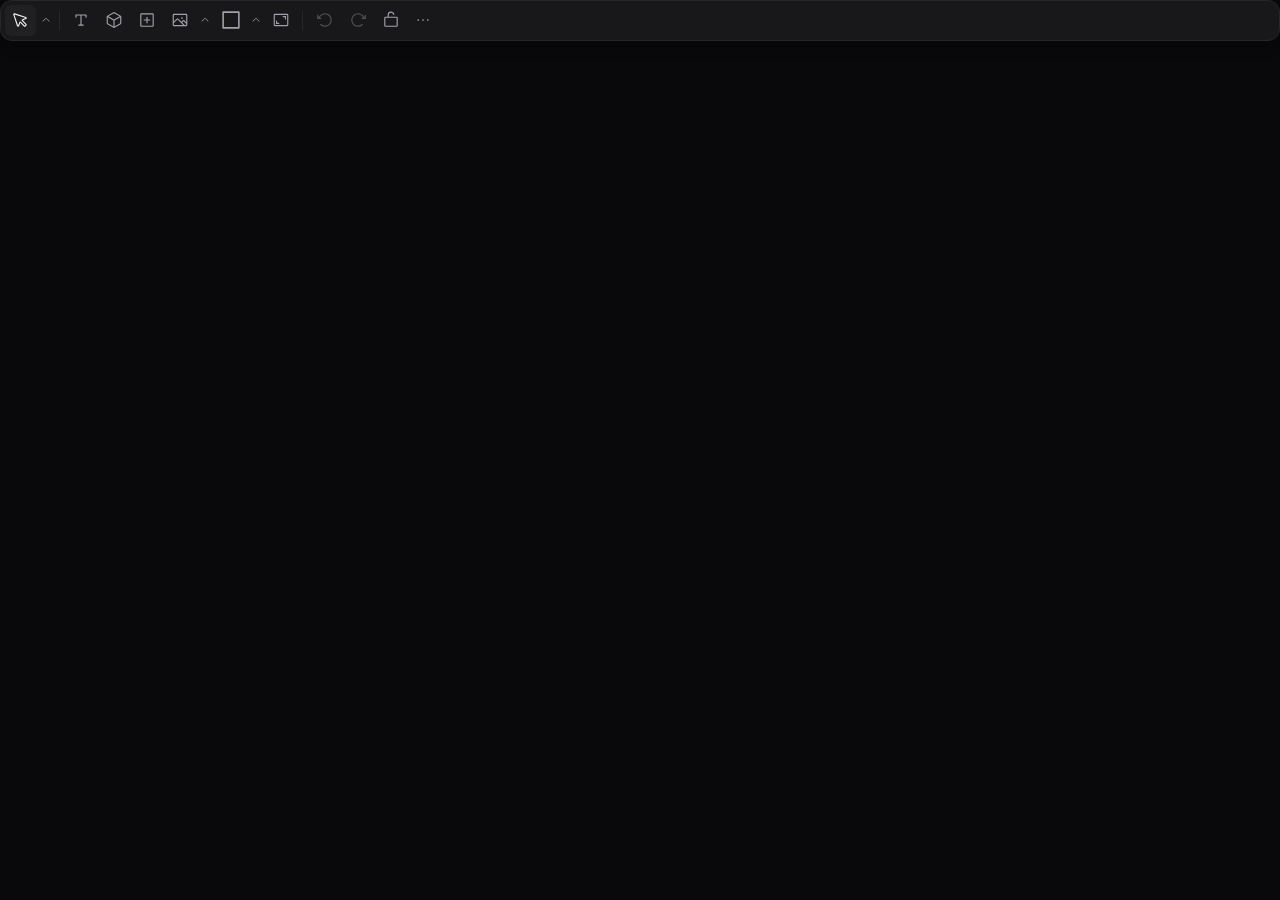
Test: Toolbox › more options opens canvas display
Later steps or results of the test are not shown.
Click the button named "More options".
click(423, 20)  # box 408,5 -> 439,36
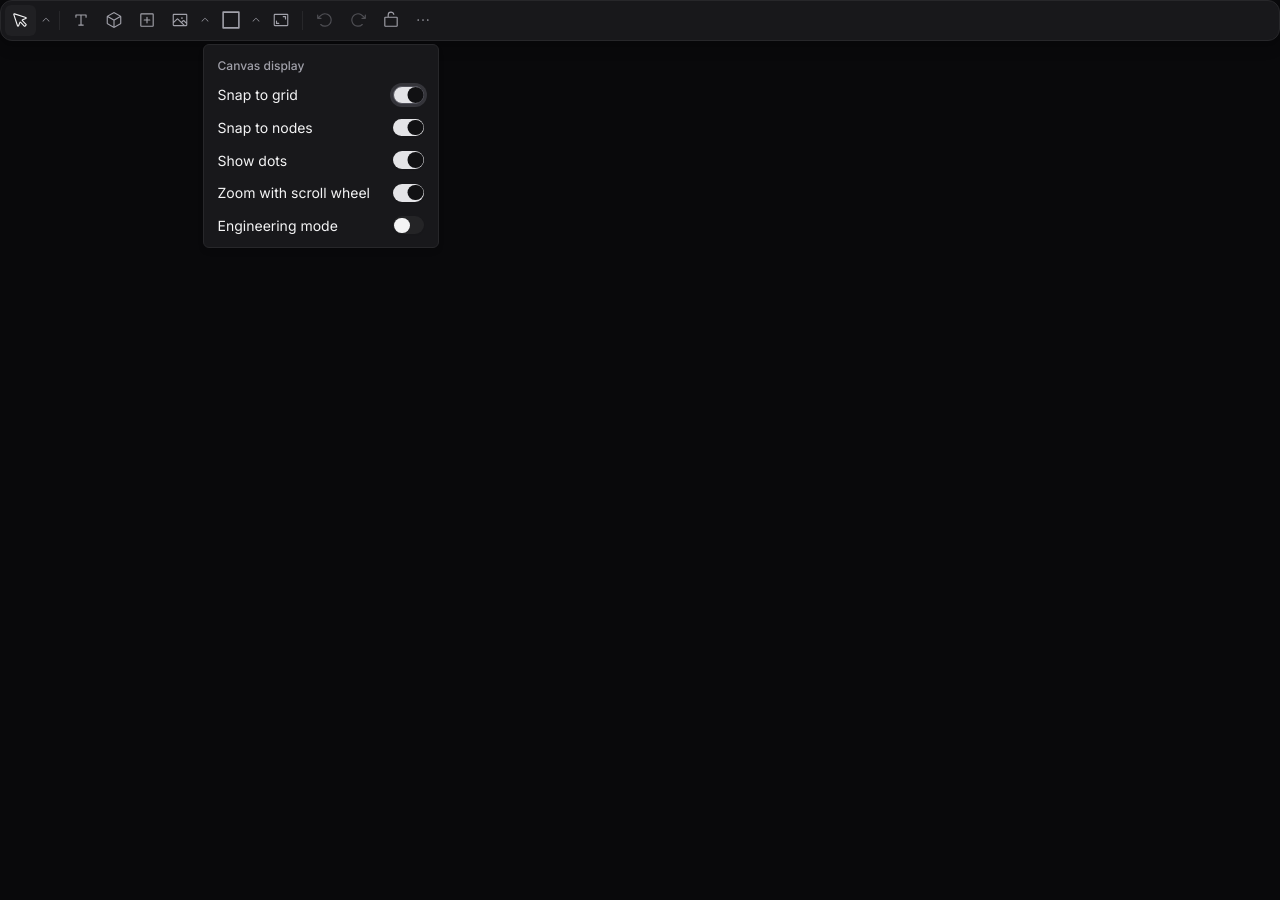
Expected: the text "Canvas display" is shown, 218,58 -> 304,73
